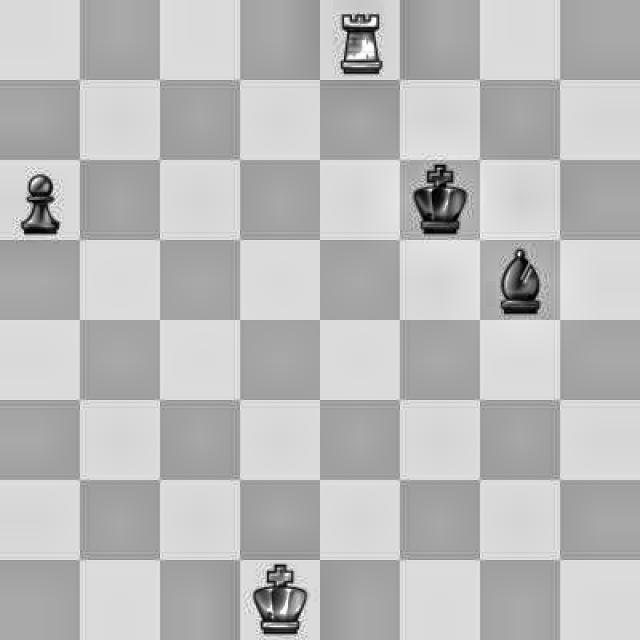black bishop: (470, 237, 550, 314)
black king: (400, 158, 475, 242)
black pawn: (0, 163, 74, 240)
white king: (235, 560, 319, 640)
white rook: (326, 5, 394, 75)
